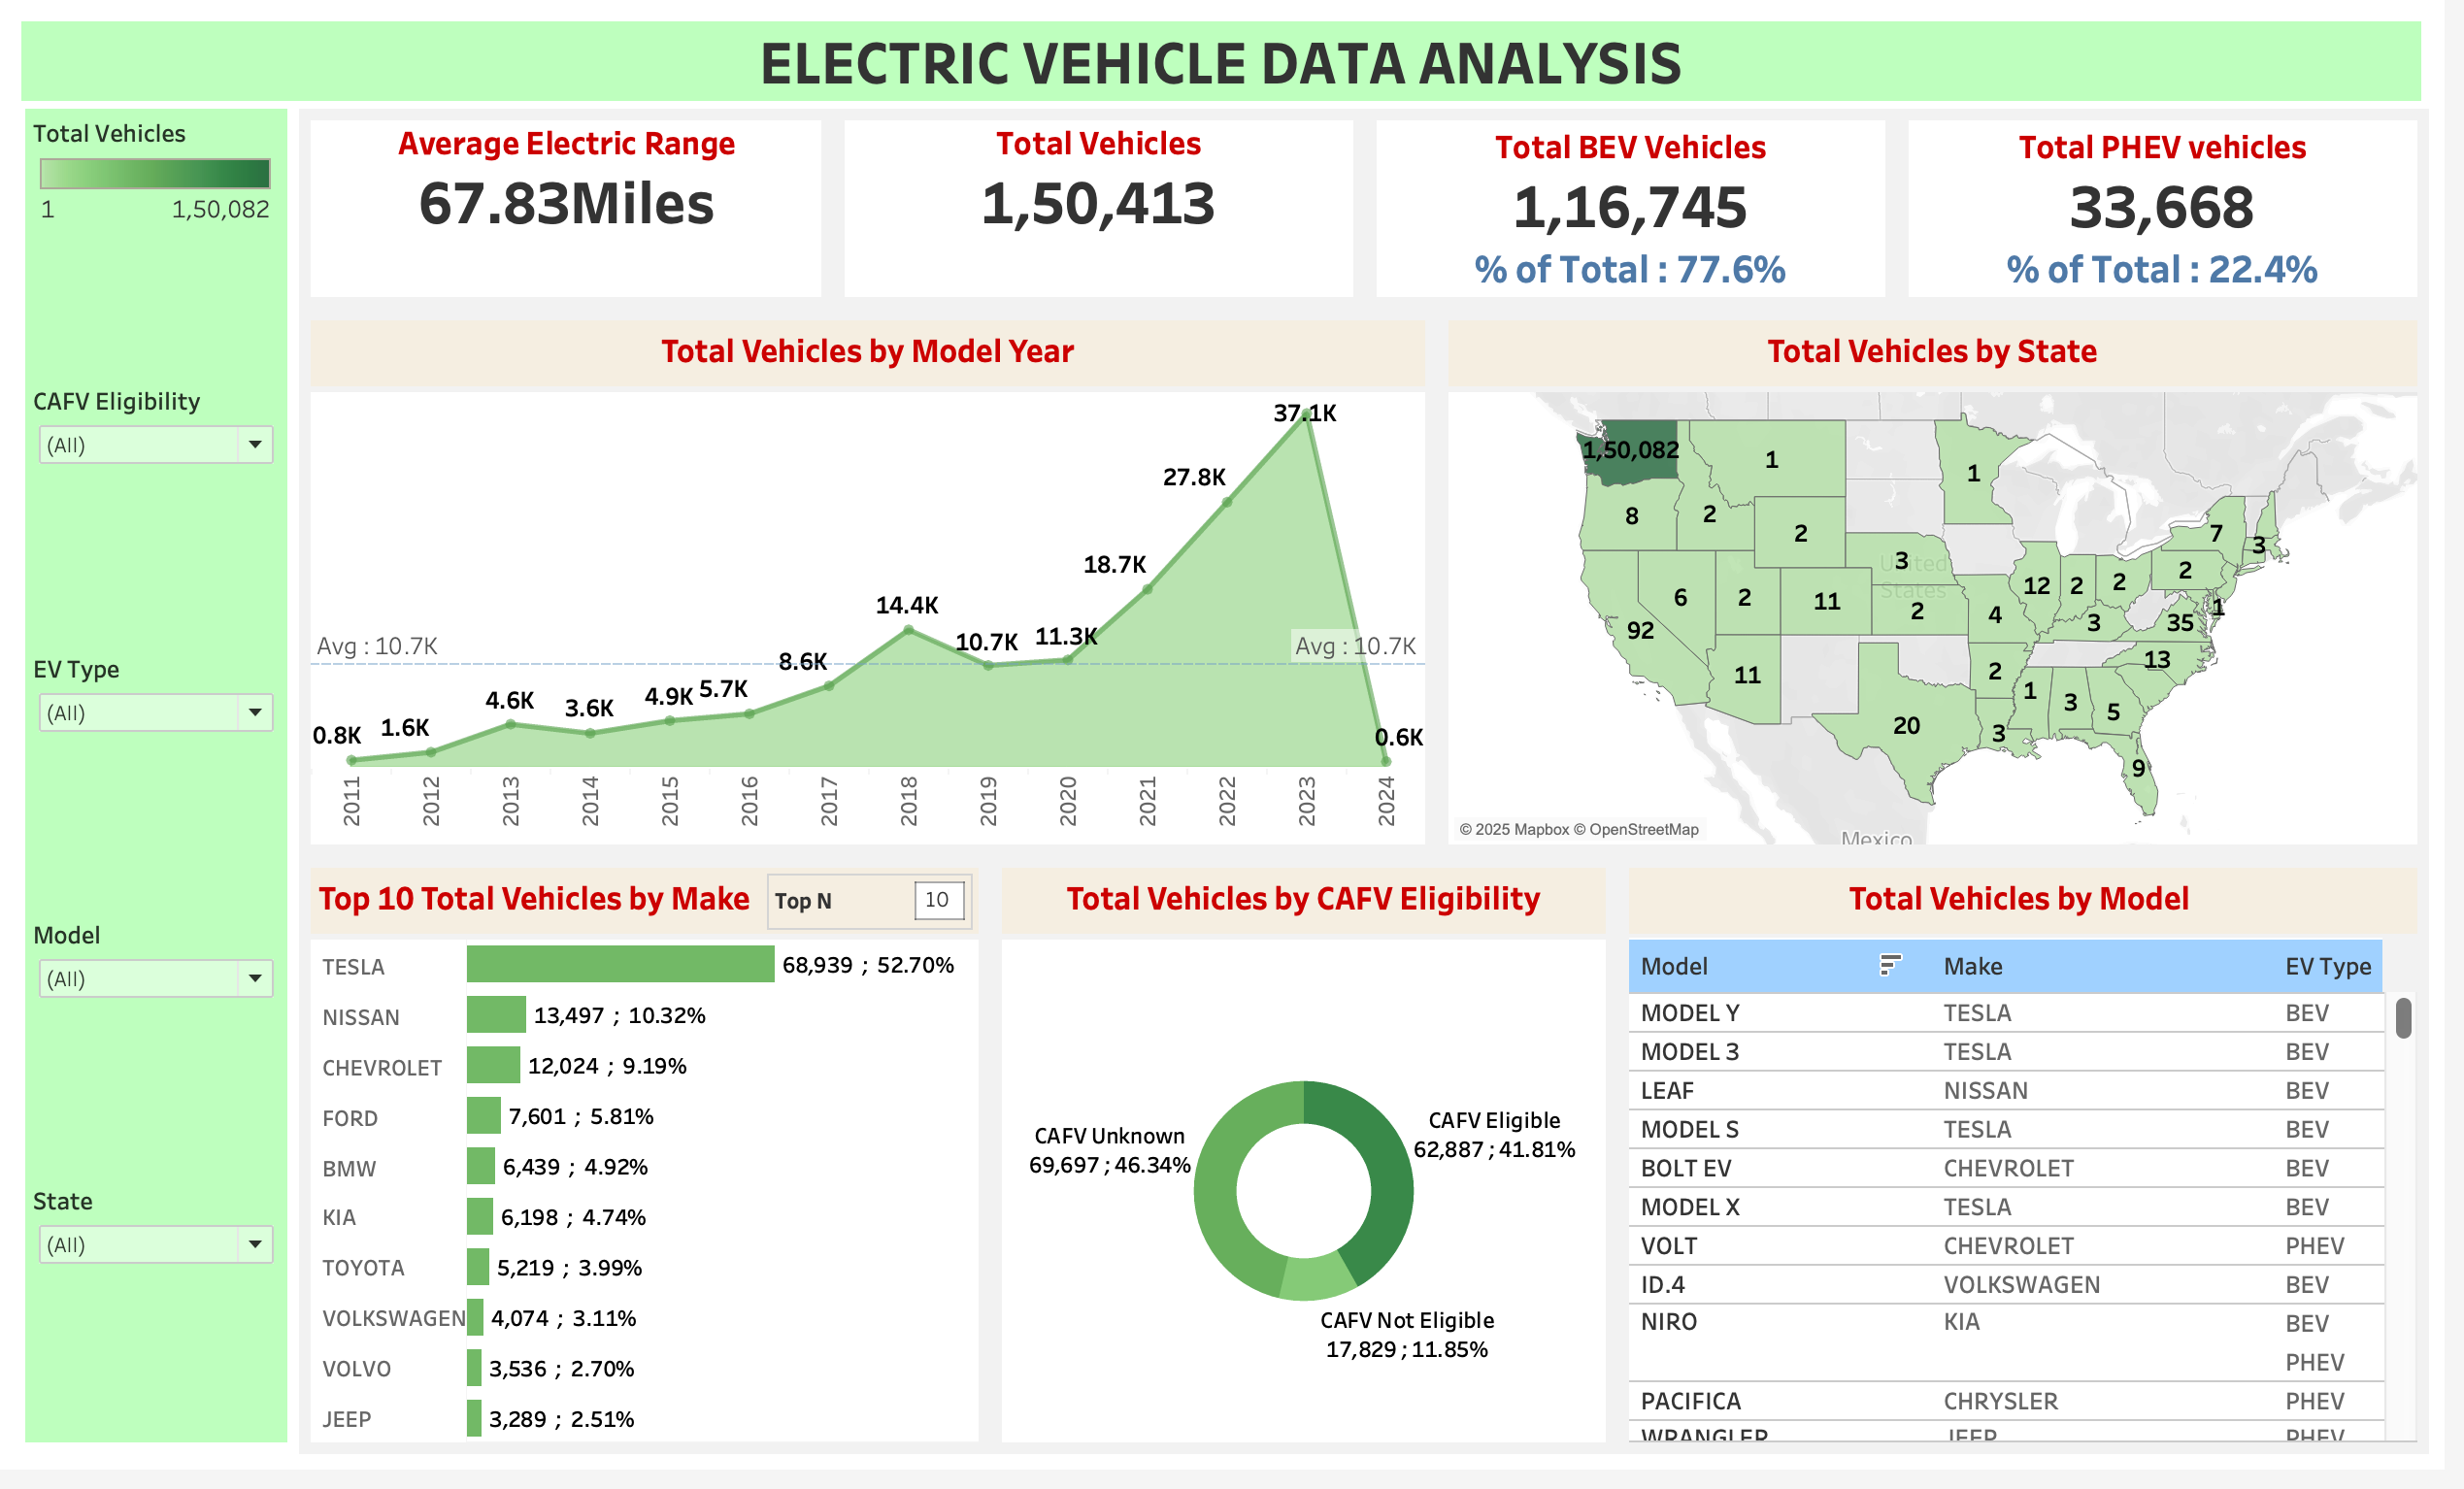

Layout of this report page (visuals, bound fields, positions):
{"tool":"tableau","page":{"name":"Dashboard 1","canvas":[1260,758],"ordinal":0},"visuals":[{"type":"title","box":[8,8,1244,49.3]},{"type":"legend","title":"Total Vehicles by State","param":"[federated.0ghng281872d7d1dj8w1f0wpl9qb].[usr:Calculation_599823175968665600:qk]","box":[14,57,135,138]},{"type":"worksheet","title":"Average Electric Range","mark":"Automatic","box":[155,57,275,103]},{"type":"worksheet","title":"Total Vehicles","mark":"Automatic","box":[430,57,274,103]},{"type":"worksheet","title":"Total BEV Vehicles","mark":"Automatic","box":[704,57,274,103]},{"type":"worksheet","title":"Total PHEV Vehicles","mark":"Automatic","box":[978,57,274,103]},{"type":"worksheet","title":"Total Vehicles by Model Year","mark":"Area","rows":["Calculation_599823175968665600","Calculation_599823175968665600"],"cols":["Model Year"],"box":[155,160.3,586,282]},{"type":"worksheet","title":"Total Vehicles by State","mark":"Multipolygon","box":[741,160.3,511,282]},{"type":"filter","title":"Total Vehicles by State","param":"[federated.0ghng281872d7d1dj8w1f0wpl9qb].[none:Clean Alternative Fuel Vehicle (C","box":[14,195,135,138]},{"type":"filter","title":"Total Vehicles by State","param":"[federated.0ghng281872d7d1dj8w1f0wpl9qb].[none:Electric Vehicle Type:nk]","box":[14,333,135,137]},{"type":"worksheet","title":"Top 10 Total Vehicles by Make","mark":"Automatic","rows":["Make"],"cols":["Calculation_599823175968665600"],"box":[155,442.3,356,307.7]},{"type":"worksheet","title":"Total Vehicles by CAFV Eligibility","mark":"Pie","rows":["Calculation_599823177030483979","Calculation_599823177030483979"],"box":[511,442.3,323,307.7]},{"type":"worksheet","title":"Total Vehicles by Model ","mark":"Square","rows":["Model","Make","Electric Vehicle Type"],"box":[834,442.3,418,307.7]},{"type":"parameter","param":"[Parameters].[Parameter 1]","box":[396,451,106,29]},{"type":"filter","title":"Total Vehicles by State","param":"[federated.0ghng281872d7d1dj8w1f0wpl9qb].[none:Model:nk]","box":[14,470,135,137]},{"type":"filter","title":"Total Vehicles by State","param":"[federated.0ghng281872d7d1dj8w1f0wpl9qb].[none:State:nk]","box":[14,607,135,137]}]}

Visuals, with their boxes in screenshot pixels (x1, y1, x2, y2), scaled from the page's 1260x758 canvas onto the 2464x1489 screenshot:
title: (16, 16, 2448, 113)
"Total Vehicles by State" legend: (27, 112, 291, 383)
"Average Electric Range" worksheet: (303, 112, 841, 314)
"Total Vehicles" worksheet: (841, 112, 1377, 314)
"Total BEV Vehicles" worksheet: (1377, 112, 1913, 314)
"Total PHEV Vehicles" worksheet: (1913, 112, 2448, 314)
"Total Vehicles by Model Year" worksheet (Area marks): (303, 314, 1449, 869)
"Total Vehicles by State" worksheet (Multipolygon marks): (1449, 314, 2448, 869)
"Total Vehicles by State" filter: (27, 383, 291, 654)
"Total Vehicles by State" filter: (27, 654, 291, 923)
"Top 10 Total Vehicles by Make" worksheet: (303, 869, 999, 1473)
"Total Vehicles by CAFV Eligibility" worksheet (Pie marks): (999, 869, 1631, 1473)
"Total Vehicles by Model " worksheet (Square marks): (1631, 869, 2448, 1473)
parameter: (775, 886, 982, 943)
"Total Vehicles by State" filter: (27, 923, 291, 1192)
"Total Vehicles by State" filter: (27, 1192, 291, 1462)
